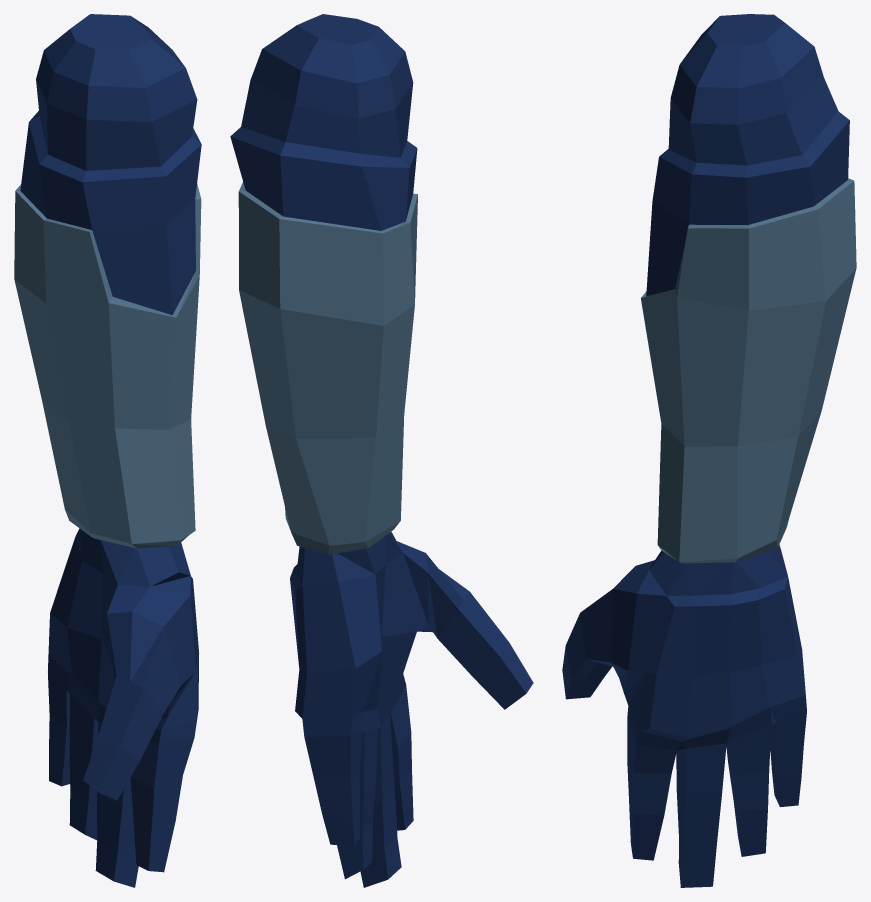
The model's file is right_forearm.fbx.
3 renders of one model, left to right at view 1: azimuth 30°, elevation 25°; view 2: azimuth 150°, elevation 25°; view 3: azimuth 270°, elevation 25°, orthographic. The views are drawn at different scales.
Parts seen in each view (by area): view 1: right_arm_forearm; view 2: right_arm_forearm; view 3: right_arm_forearm.
Part boxes in pixels (<box>): right_arm_forearm: <box>14,14,201,887</box>; right_arm_forearm: <box>230,14,533,887</box>; right_arm_forearm: <box>562,14,856,887</box>.
Size of the model in its own units: 0.1159 by 0.4951 by 0.1521.
